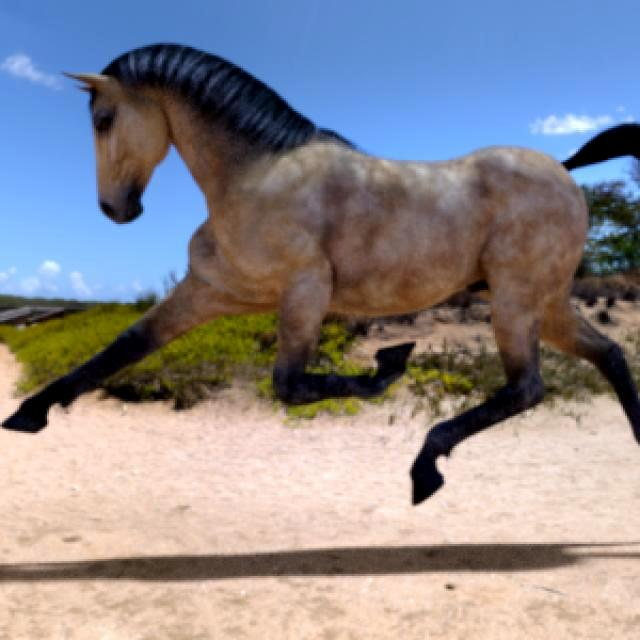horse: (2, 46, 640, 502)
